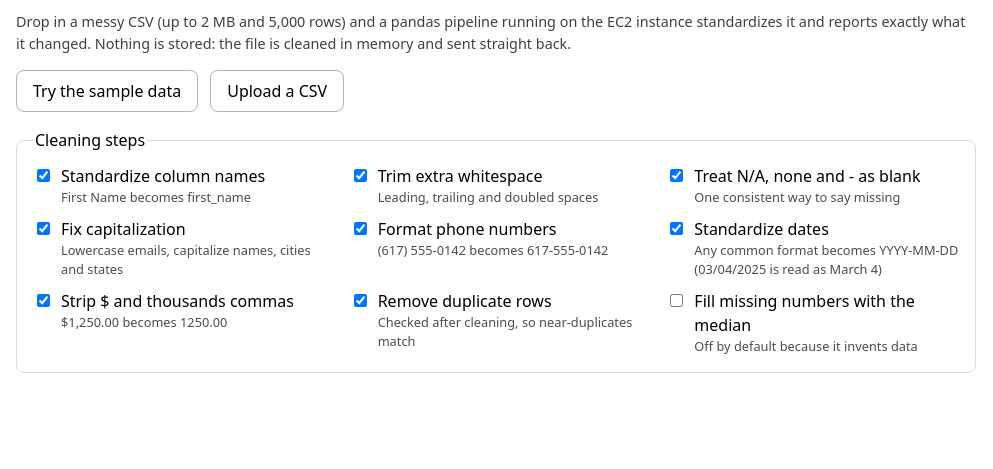
DataCleaner › falls back to a generic message when the error response isn't JSON
The width and height of the screenshot is (993, 469).
Click the button "Try the sample data".
click(107, 91)  # box [16,70,198,112]
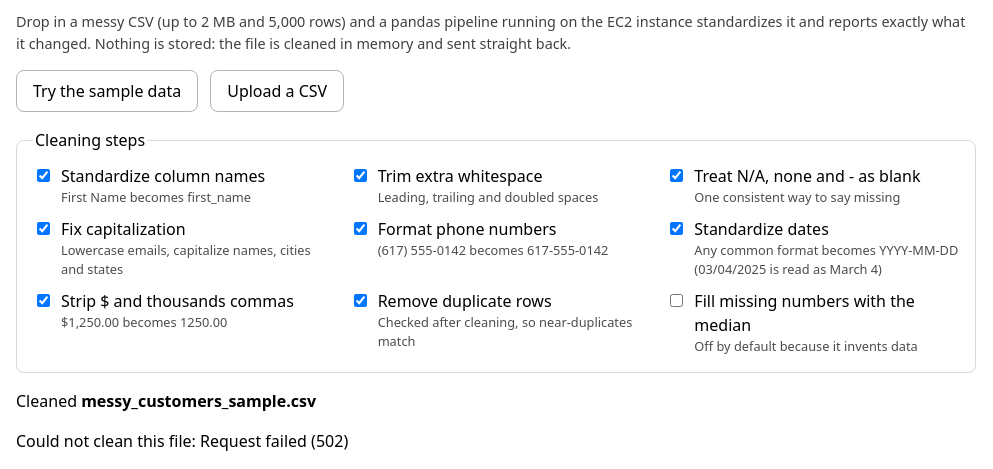
expect the message shows "Request failed (502)": met, box [200,430,348,452]
